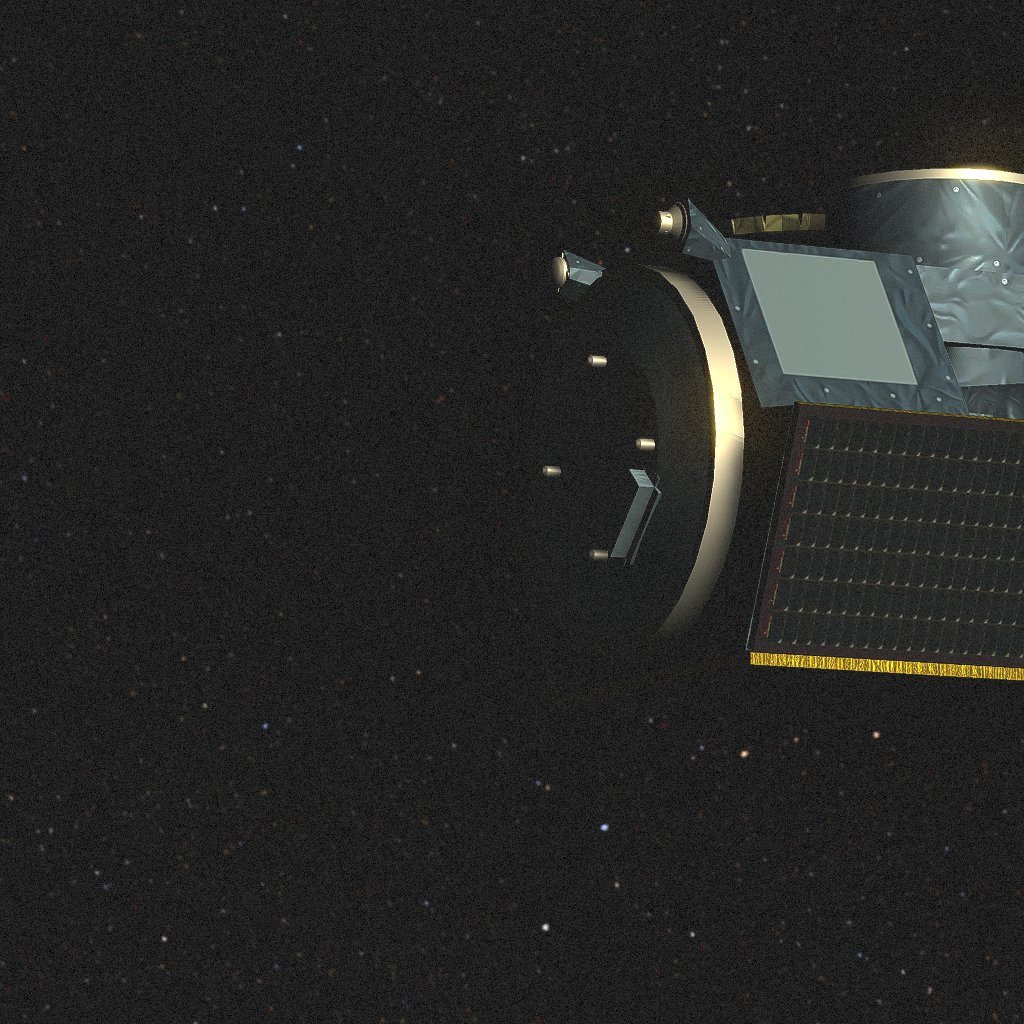cheops: (529, 196, 1013, 690)
